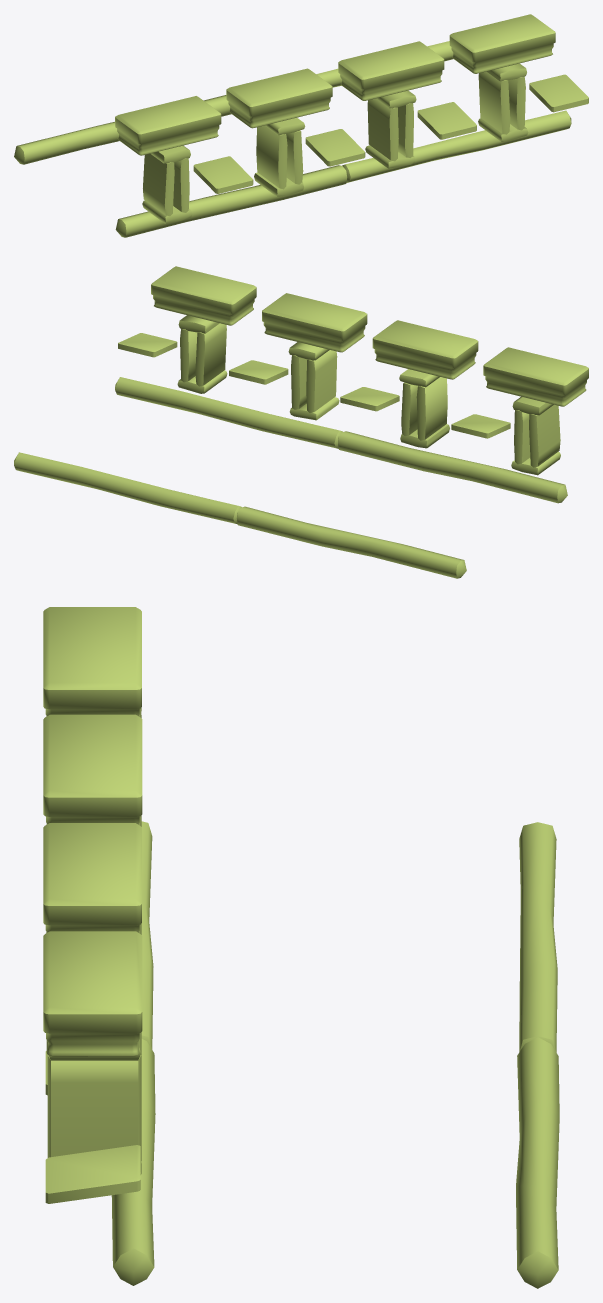
Rendered from wall_outer_10m_deco.fbx.
3 renders of one model, top to bottom at view 1: azimuth 30°, elevation 25°; view 2: azimuth 150°, elevation 25°; view 3: azimuth 270°, elevation 25°, orthographic. The views are drawn at different scales.
Visible parts, largest first — view 1: Cube.093; view 2: Cube.093; view 3: Cube.093.
Boxes of the visible parts, left/top/right/bottom form: Cube.093: left=14, top=14, right=588, bottom=237; Cube.093: left=14, top=266, right=588, bottom=578; Cube.093: left=43, top=607, right=559, bottom=1288.
Bounding box in the file's own units: 10.18 × 2.67 × 5.03.
